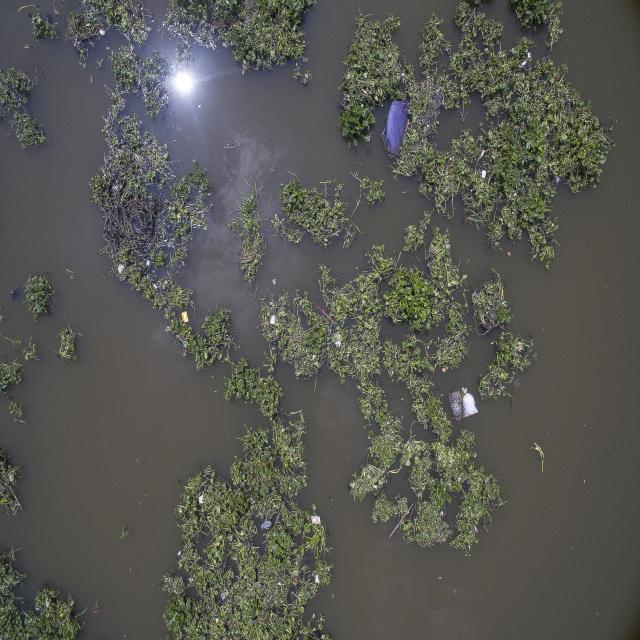plastic: (378, 77, 414, 172), (443, 384, 484, 424), (517, 40, 538, 78), (332, 329, 344, 351), (310, 512, 324, 528), (268, 314, 281, 329), (115, 263, 128, 277)
